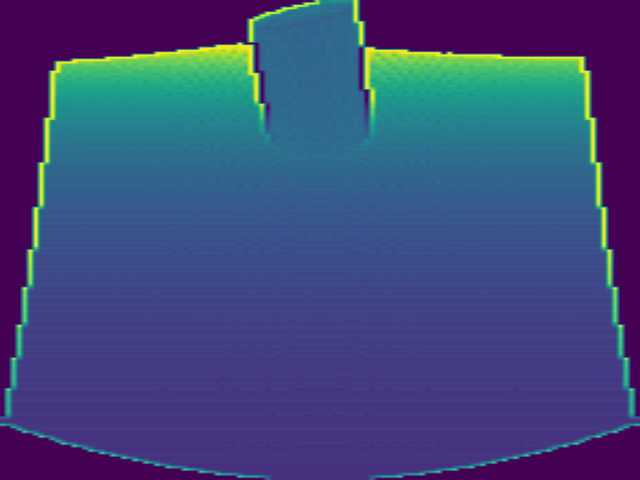cylinder: (245, 3, 375, 156)
